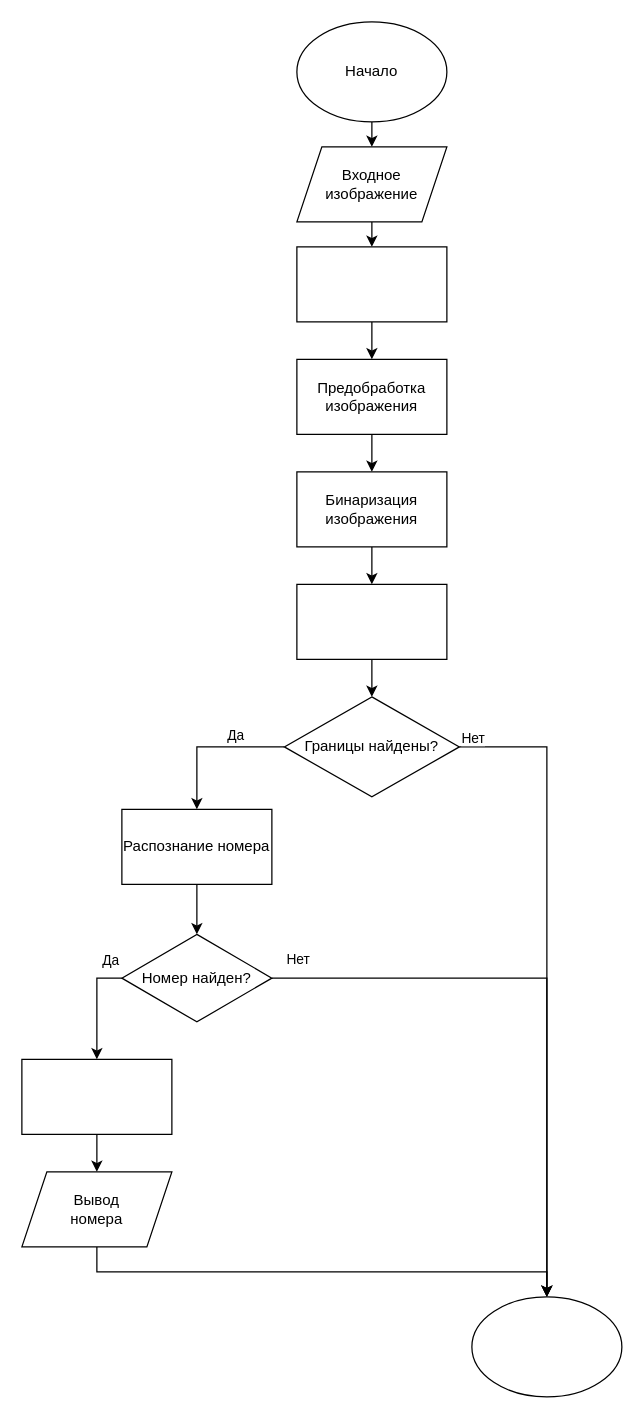
Image size: 644x1419. Some labels were removed from this diagram. Here are the shapes that lost their labels. From the top down, the box of each, then its label:
(296, 246, 447, 322): Перевод изображения в оттенки серого
(296, 583, 447, 659): Нахождение границ автомобильного номера
(21, 1058, 172, 1134): Считывание символов
(471, 1296, 622, 1397): Конец
